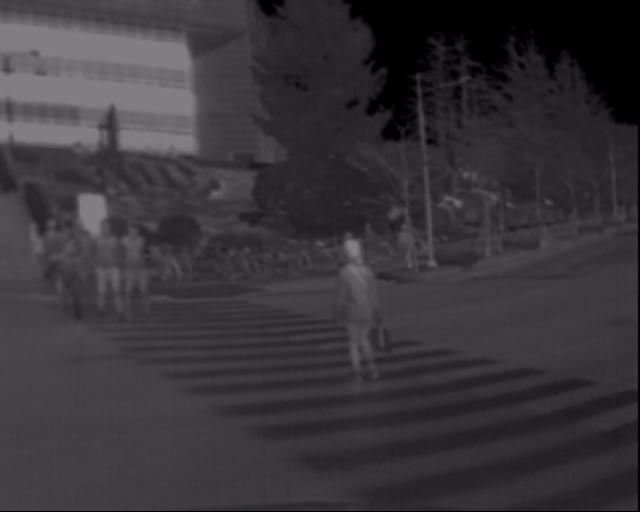person: (318, 224, 388, 395), (25, 211, 89, 343), (75, 211, 126, 332), (115, 209, 158, 328), (0, 211, 52, 289), (318, 220, 358, 321), (334, 209, 382, 282), (386, 213, 423, 284)
